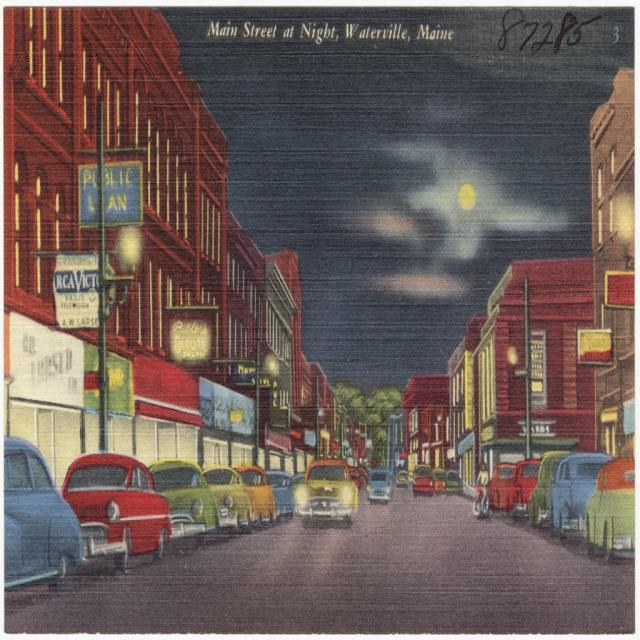car: (294, 461, 357, 527), (415, 466, 431, 493)
